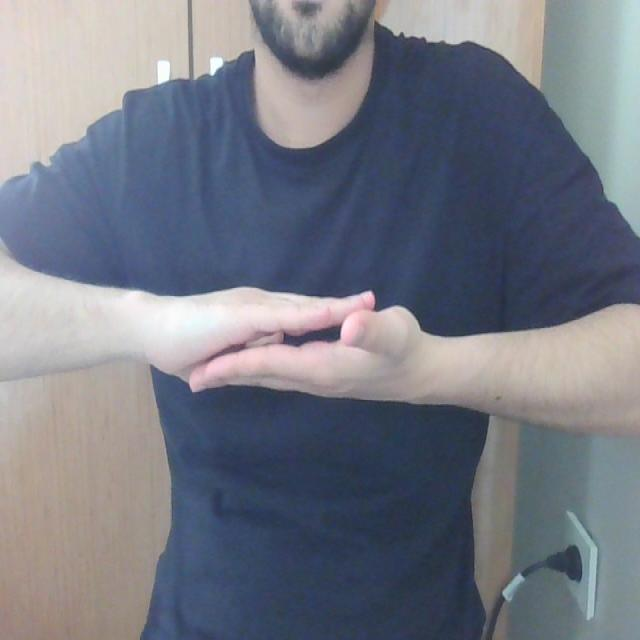Arkadas: (0, 265, 640, 420)
